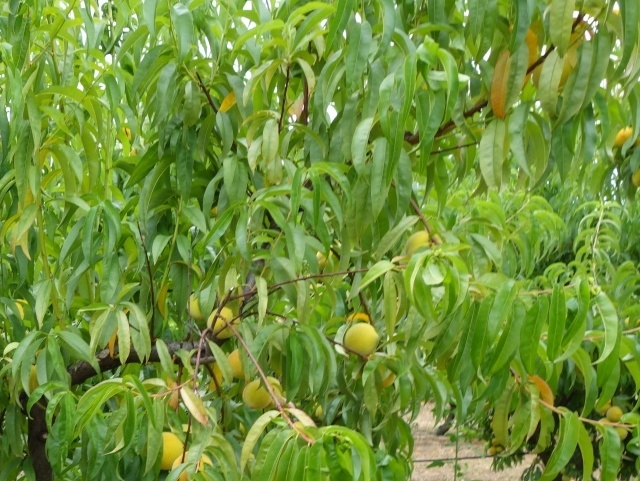peach: (152, 427, 190, 473), (341, 320, 382, 361), (202, 303, 243, 340), (403, 223, 445, 258), (239, 376, 273, 412), (607, 121, 639, 158), (224, 346, 251, 383), (182, 292, 210, 325)
